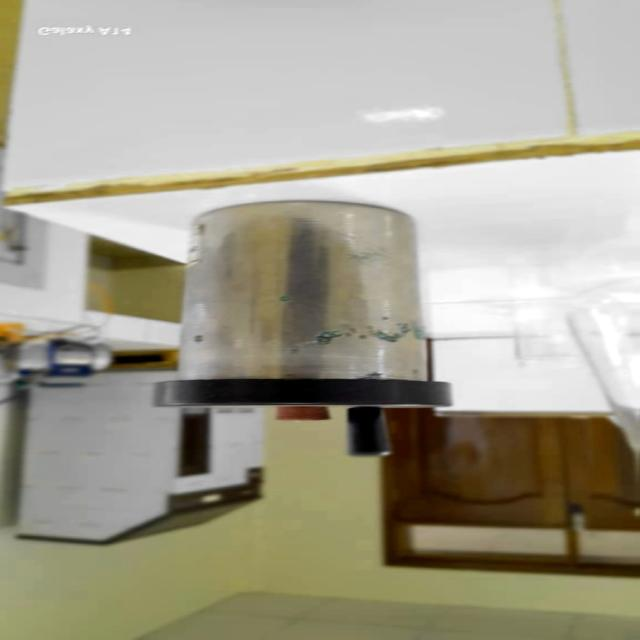Calorimeter: (156, 199, 448, 462)
